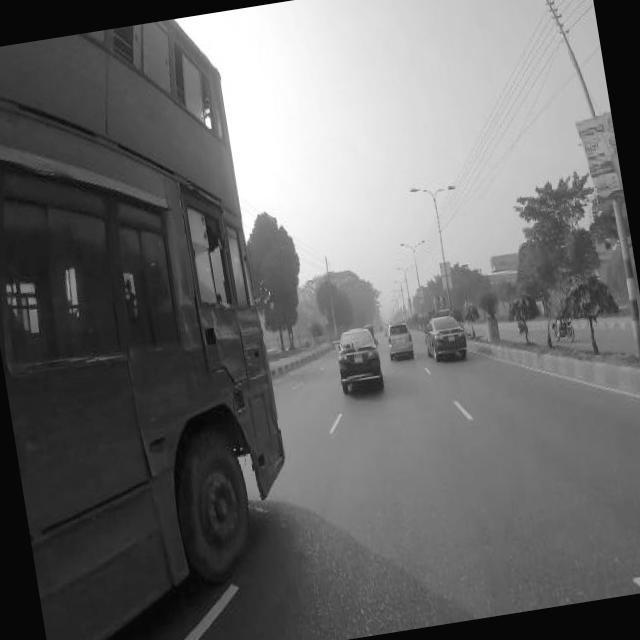bus: (0, 14, 314, 640)
car: (330, 322, 384, 398), (420, 314, 469, 366), (382, 316, 415, 362)
